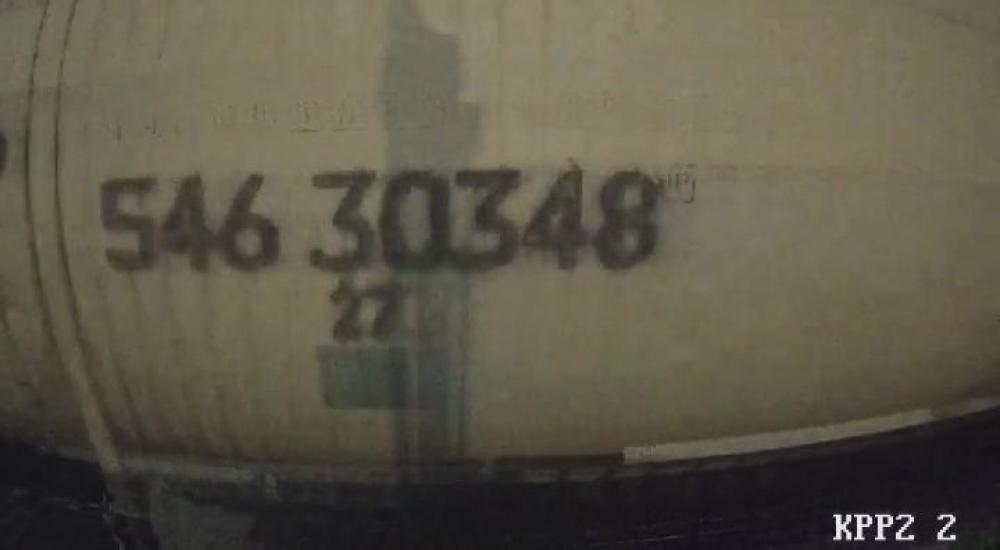Wagon-number: (96, 166, 664, 285)
